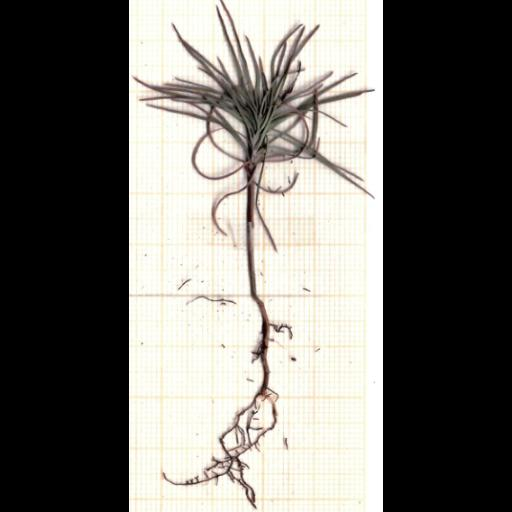flowerCedr: (139, 0, 375, 228)
rootCedr: (185, 295, 293, 508)
stemCedr: (247, 184, 256, 295)
